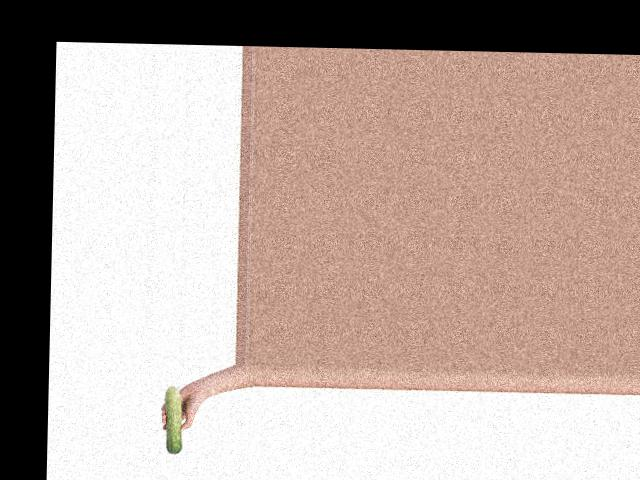cucumber: (164, 385, 184, 454)
